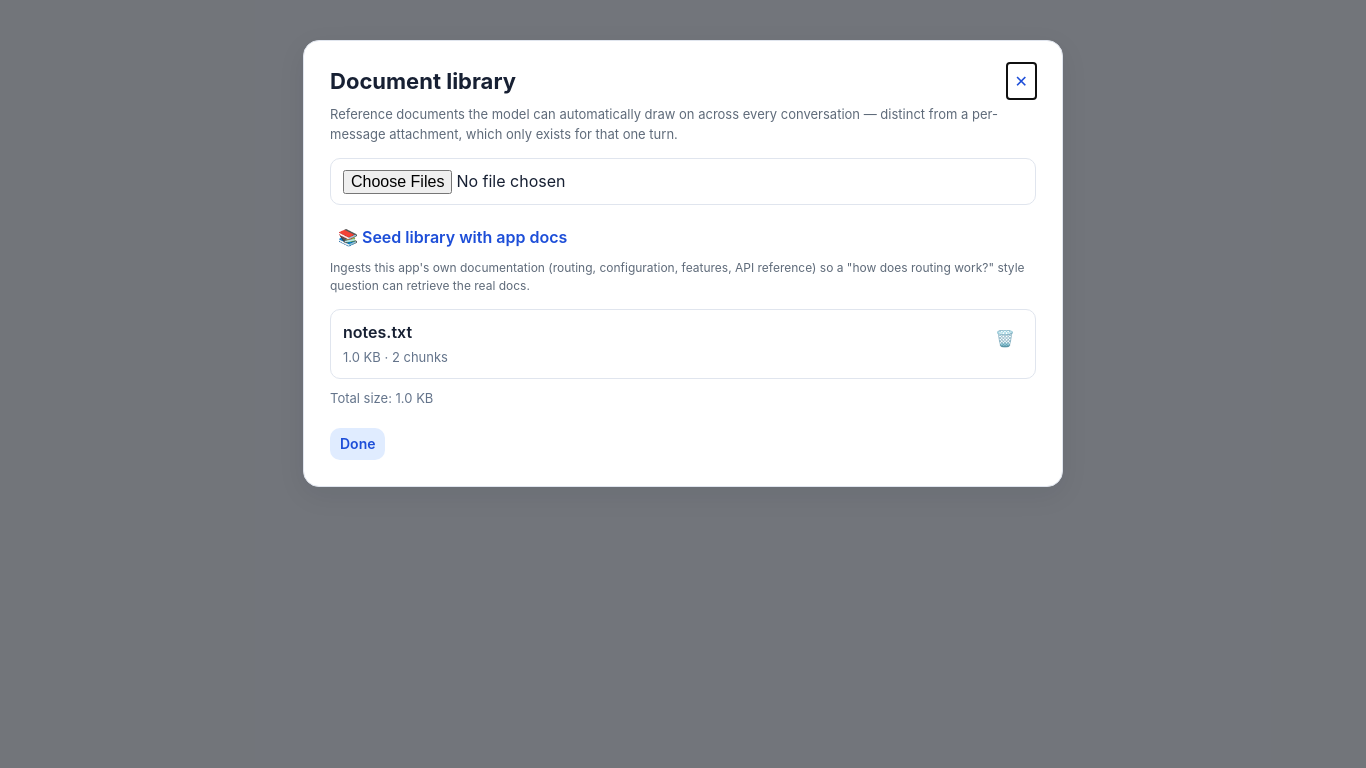
Library › deletes a document via DELETE and drops it from the list
Expected: the text "notes.txt" is shown, [343,322,412,342]
Click the button named "Delete notes.txt": coordinates (1005, 338) [987,320,1023,356]
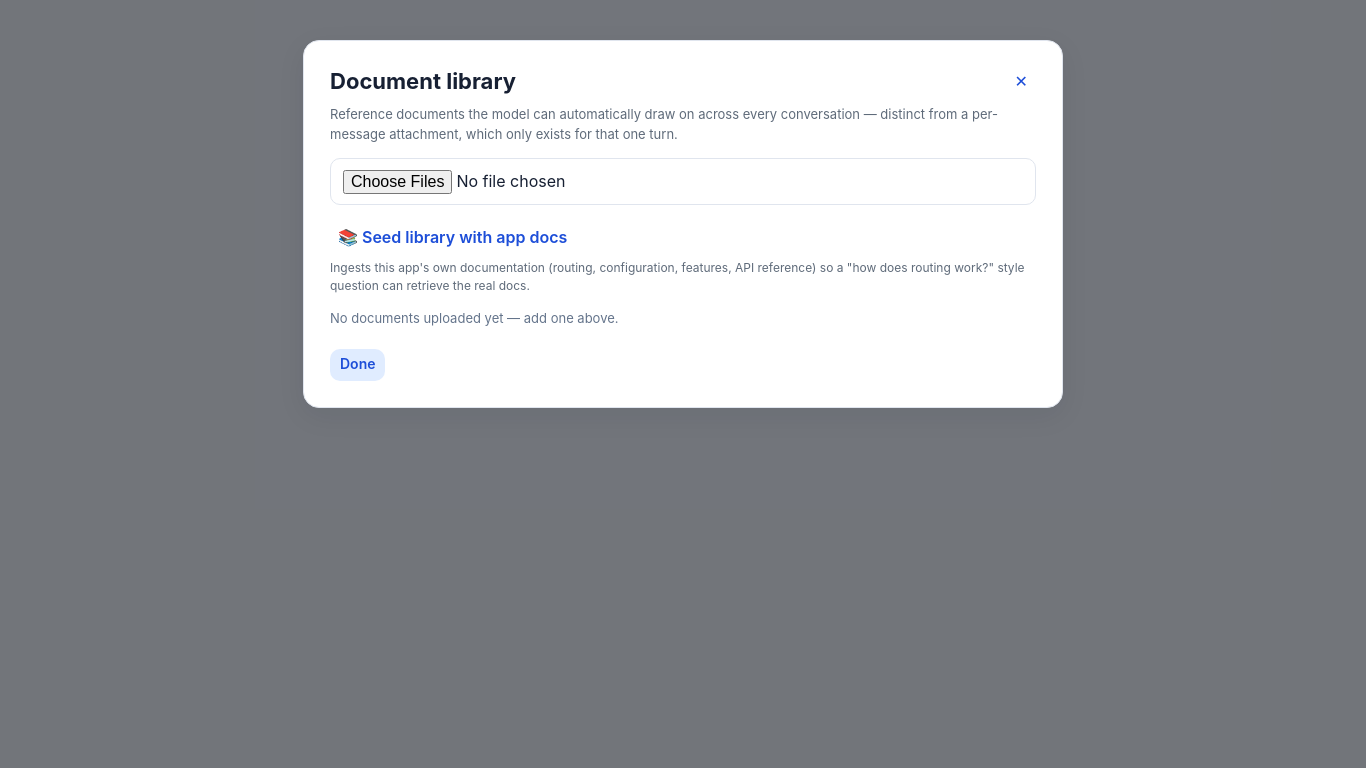
Now the text "No documents uploaded yet — add one above." is shown, box [330,310,618,326]
